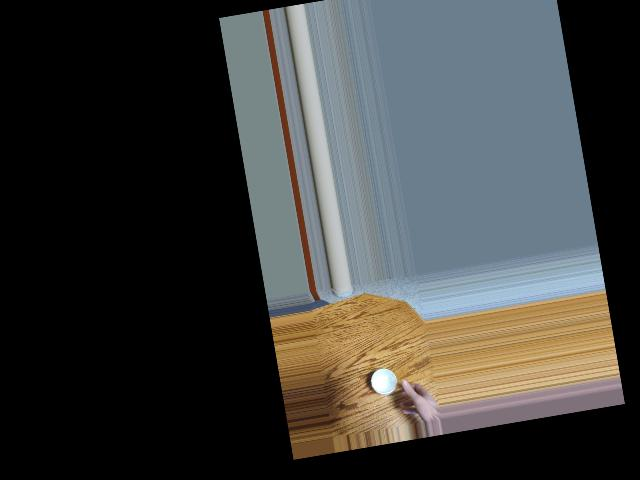cotage: (363, 360, 401, 403)
